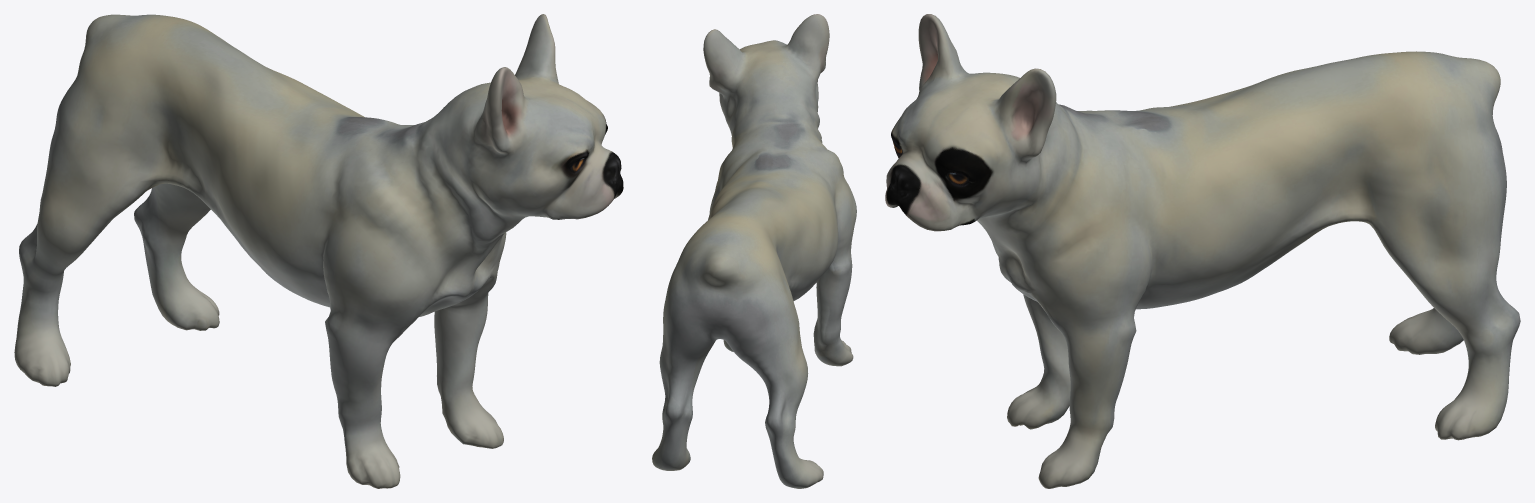
Rendered from Французский бульдог.gltf.
The picture shows the model from 3 angles, left to right: view 1: azimuth 30°, elevation 25°; view 2: azimuth 150°, elevation 25°; view 3: azimuth 270°, elevation 25°; orthographic projection. The views are drawn at different scales.
Visible parts, largest first — view 1: tripo_node_23858011; view 2: tripo_node_23858011; view 3: tripo_node_23858011.
Part boxes in pixels (x1,y1,x2,y2): tripo_node_23858011: [14, 14, 623, 488]; tripo_node_23858011: [652, 14, 856, 488]; tripo_node_23858011: [885, 14, 1520, 488].
Bounding box in the file's own units: 67.23 × 77.6 × 99.96.
Materials: 1 (1 with a texture image).
